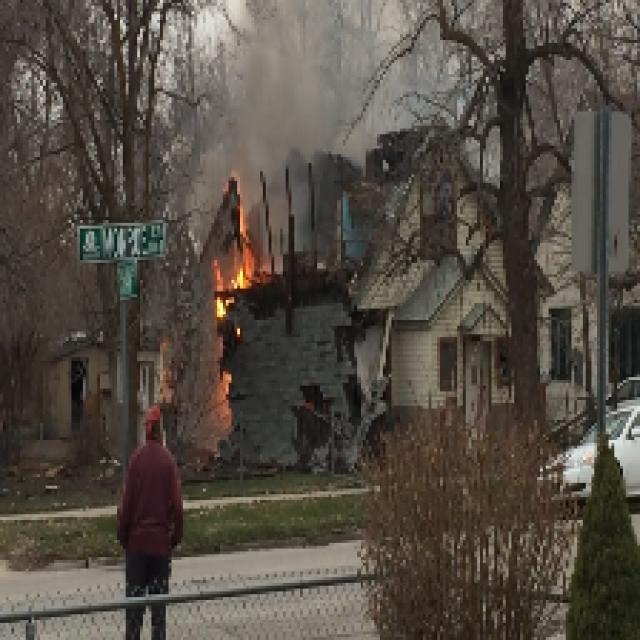Smoke: (233, 72, 373, 167)
